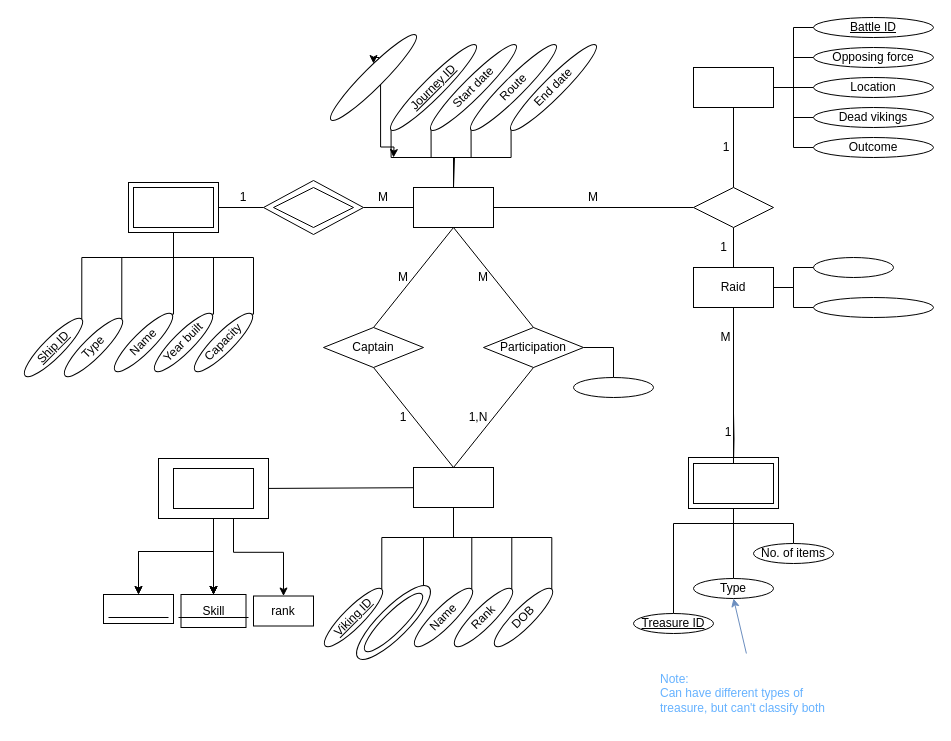
Image size: 951x741. Some labels were removed from this diagram. Here are the shapes that lost their labels. From the top down, the centre of each, then its label:
At (373,77): "Captain#".
At (733,87): "Battle".
At (173,207): "Viking ship".
At (313,207): "Shiplog".
At (453,207): "Journey".
At (853,267): "Raid ID".
At (873,307): "Target location".
At (613,387): "Role".
At (213,488): "Skills".
At (453,487): "Viking".
At (733,483): "Treasure".
At (138,609): "VikingID#".
At (393,622): "Skillset".
